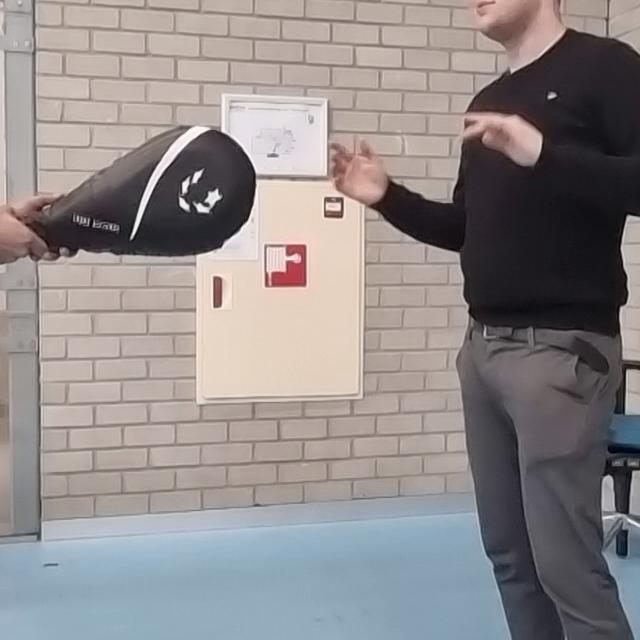paddle: (34, 124, 256, 255)
